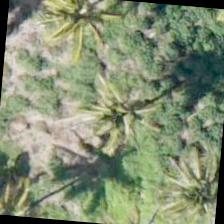Kelapa_Sawit: (39, 0, 135, 59), (160, 145, 221, 223), (0, 165, 56, 219)
